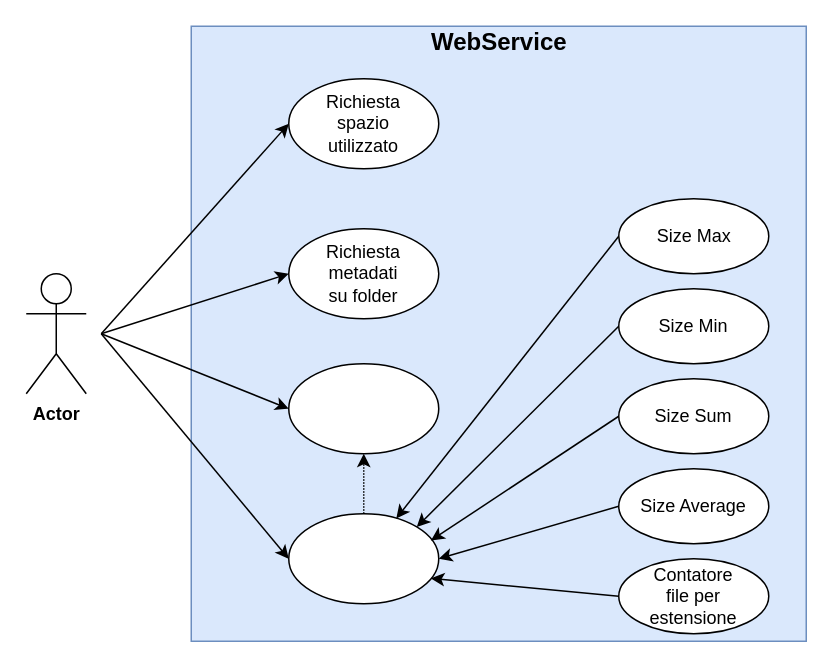
Some shapes in this 833 by 668 pixel diagram are drawn without their labels. Here are the shapes that lost their labels. From the top down, the centre of each, then its label:
[363,408]: Richiesta metadati su file
[363,558]: Richiesta statistiche sui file
